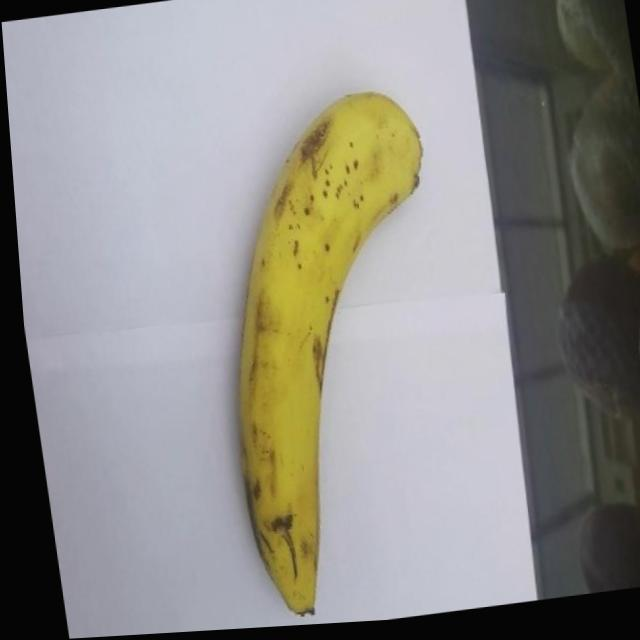Banana: (187, 86, 479, 626)
